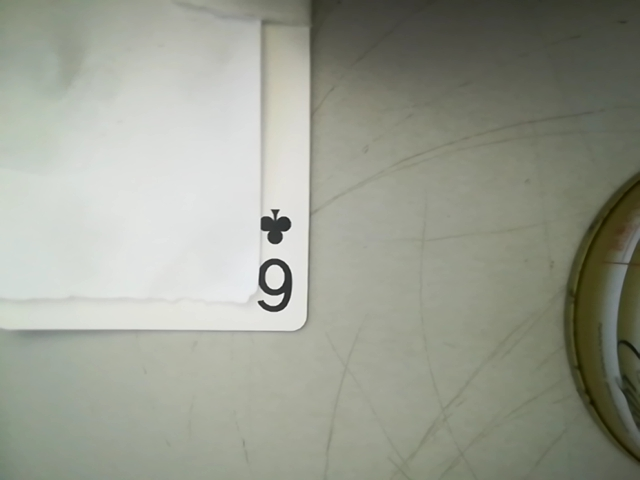mh 6: (242, 205, 307, 320)
